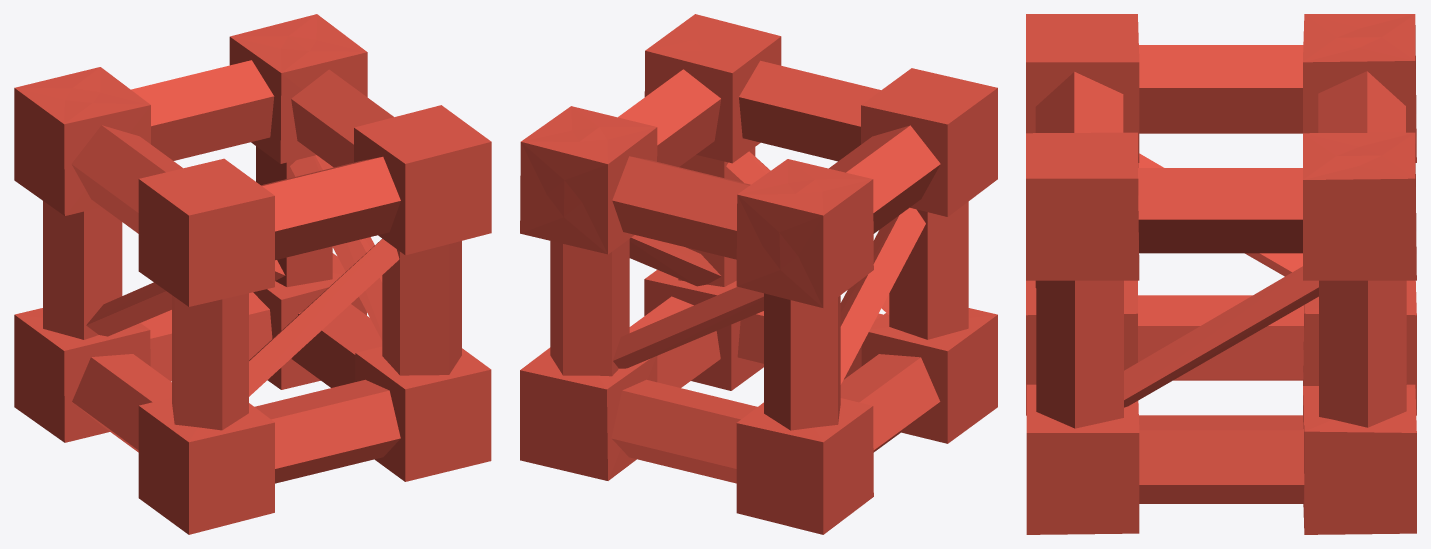
Rendered from SM_Truss_Steel_Connector.fbx.
The picture shows the model from 3 angles, left to right: view 1: azimuth 30°, elevation 25°; view 2: azimuth 150°, elevation 25°; view 3: azimuth 270°, elevation 25°; orthographic projection. The views are drawn at different scales.
Visible parts, largest first — view 1: SM_Truss_Steel_Connector; view 2: SM_Truss_Steel_Connector; view 3: SM_Truss_Steel_Connector.
Part boxes in pixels (left/top/right/bottom): SM_Truss_Steel_Connector: left=14, top=14, right=491, bottom=534; SM_Truss_Steel_Connector: left=520, top=14, right=997, bottom=534; SM_Truss_Steel_Connector: left=1026, top=14, right=1416, bottom=534.
Bounding box in the file's own units: 31.58 × 31.51 × 31.79.
